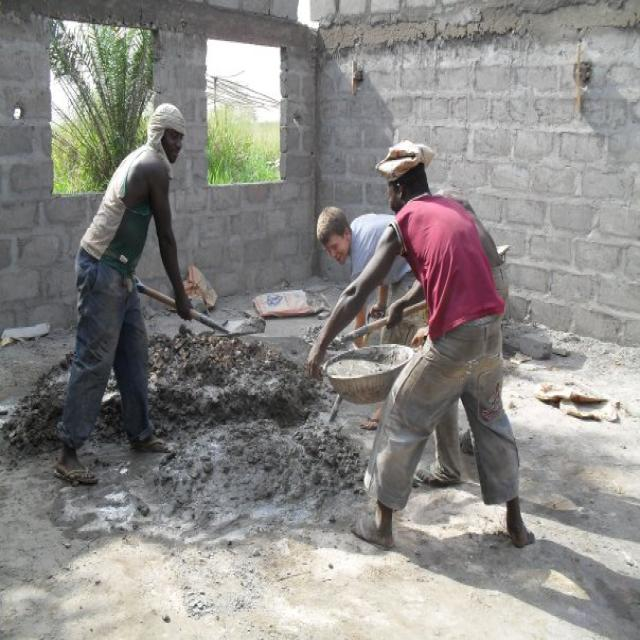no_boots: (341, 506, 404, 555), (55, 461, 110, 497), (120, 426, 180, 456), (498, 509, 539, 548)
no_gloves: (306, 336, 332, 382)
no_hardhat: (382, 138, 433, 207), (150, 96, 187, 165), (316, 202, 351, 269)
no_vest: (400, 196, 496, 335), (77, 139, 173, 276), (351, 202, 439, 284)
person: (306, 135, 536, 556), (55, 100, 190, 488), (317, 208, 444, 344)
